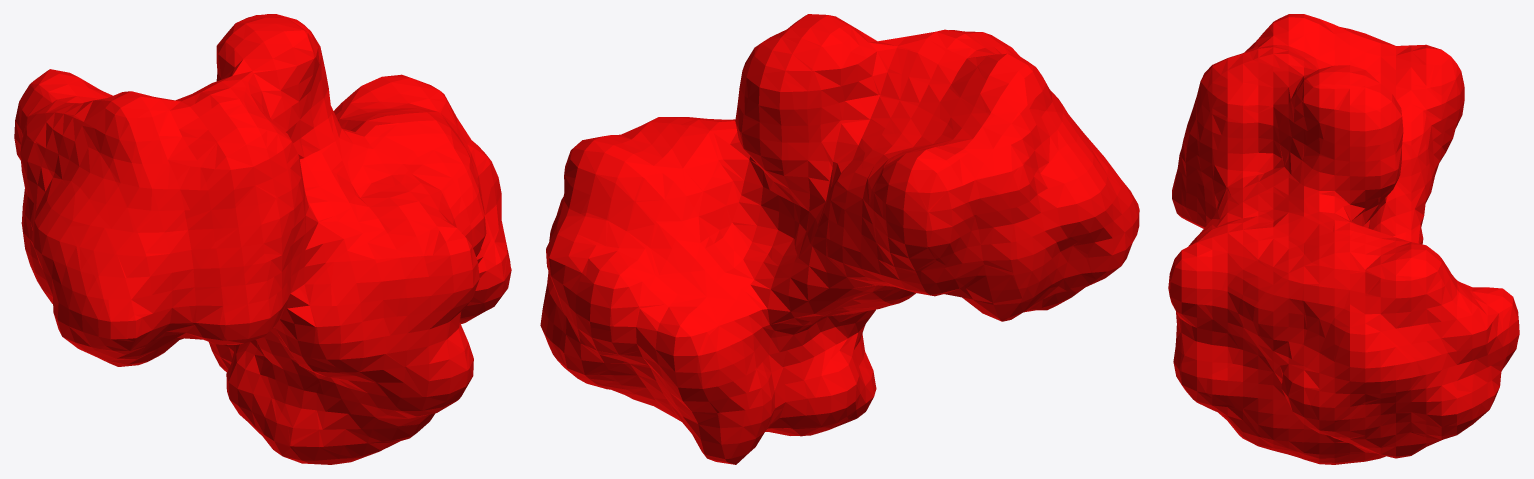
Rendered from queA_coarse.dae.
3 renders of one model, left to right at view 1: azimuth 30°, elevation 25°; view 2: azimuth 150°, elevation 25°; view 3: azimuth 270°, elevation 25°, orthographic. The views are drawn at different scales.
Visible parts, largest first — view 1: queA; view 2: queA; view 3: queA.
Boxes of the visible parts, left/top/right/bottom form: queA: left=14, top=14, right=511, bottom=464; queA: left=540, top=14, right=1139, bottom=464; queA: left=1168, top=14, right=1519, bottom=464.
Bounding box in the file's own units: 72.32 × 58.38 × 51.91.
